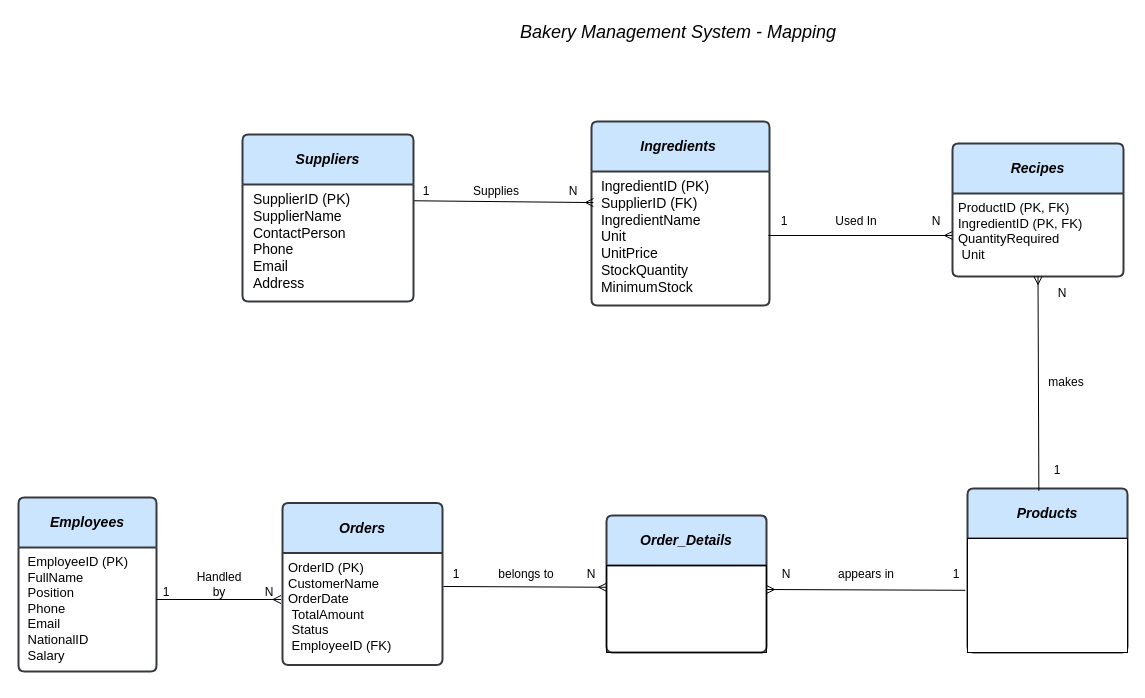
The diagram is 1145 pixels wide and 698 high, and some of its shapes have lost their labels. Here are the shapes that lost their labels. From the top down, the centre of each, then its label:
At [686,608]: "OrderID (PK, FK) ProductID (PK, FK) quantity unitprice subtotal".
At [1047,595]: "ProductID (PK) ProductName Description Price StockQuantity Category".
